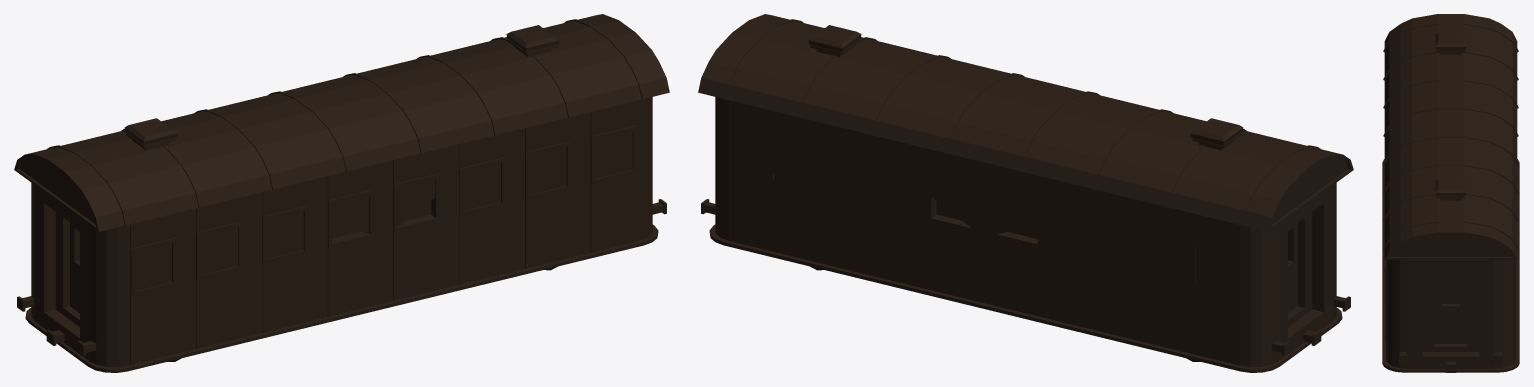
The model's file is locomotive_passengerwagon.glb.
3 views of the same model, side by side, from view 1: azimuth 30°, elevation 25°; view 2: azimuth 150°, elevation 25°; view 3: azimuth 270°, elevation 25° (orthographic). The views are drawn at different scales.
Parts seen in each view (by area): view 1: Locomotive_PassengerWagon_Cube.012; view 2: Locomotive_PassengerWagon_Cube.012; view 3: Locomotive_PassengerWagon_Cube.012.
Part boxes in pixels (<box>): Locomotive_PassengerWagon_Cube.012: <box>14,14,669,372</box>; Locomotive_PassengerWagon_Cube.012: <box>698,14,1353,372</box>; Locomotive_PassengerWagon_Cube.012: <box>1382,14,1519,372</box>.
Size of the model in its own units: 8.06 by 2.95 by 2.1.
